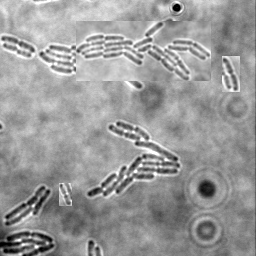Dividing: (1, 34, 37, 52), (222, 56, 240, 92), (3, 41, 33, 57), (140, 47, 169, 59), (59, 183, 72, 206)
Microcolony: (76, 21, 211, 81), (87, 120, 181, 197), (5, 184, 52, 226), (1, 230, 56, 255)
